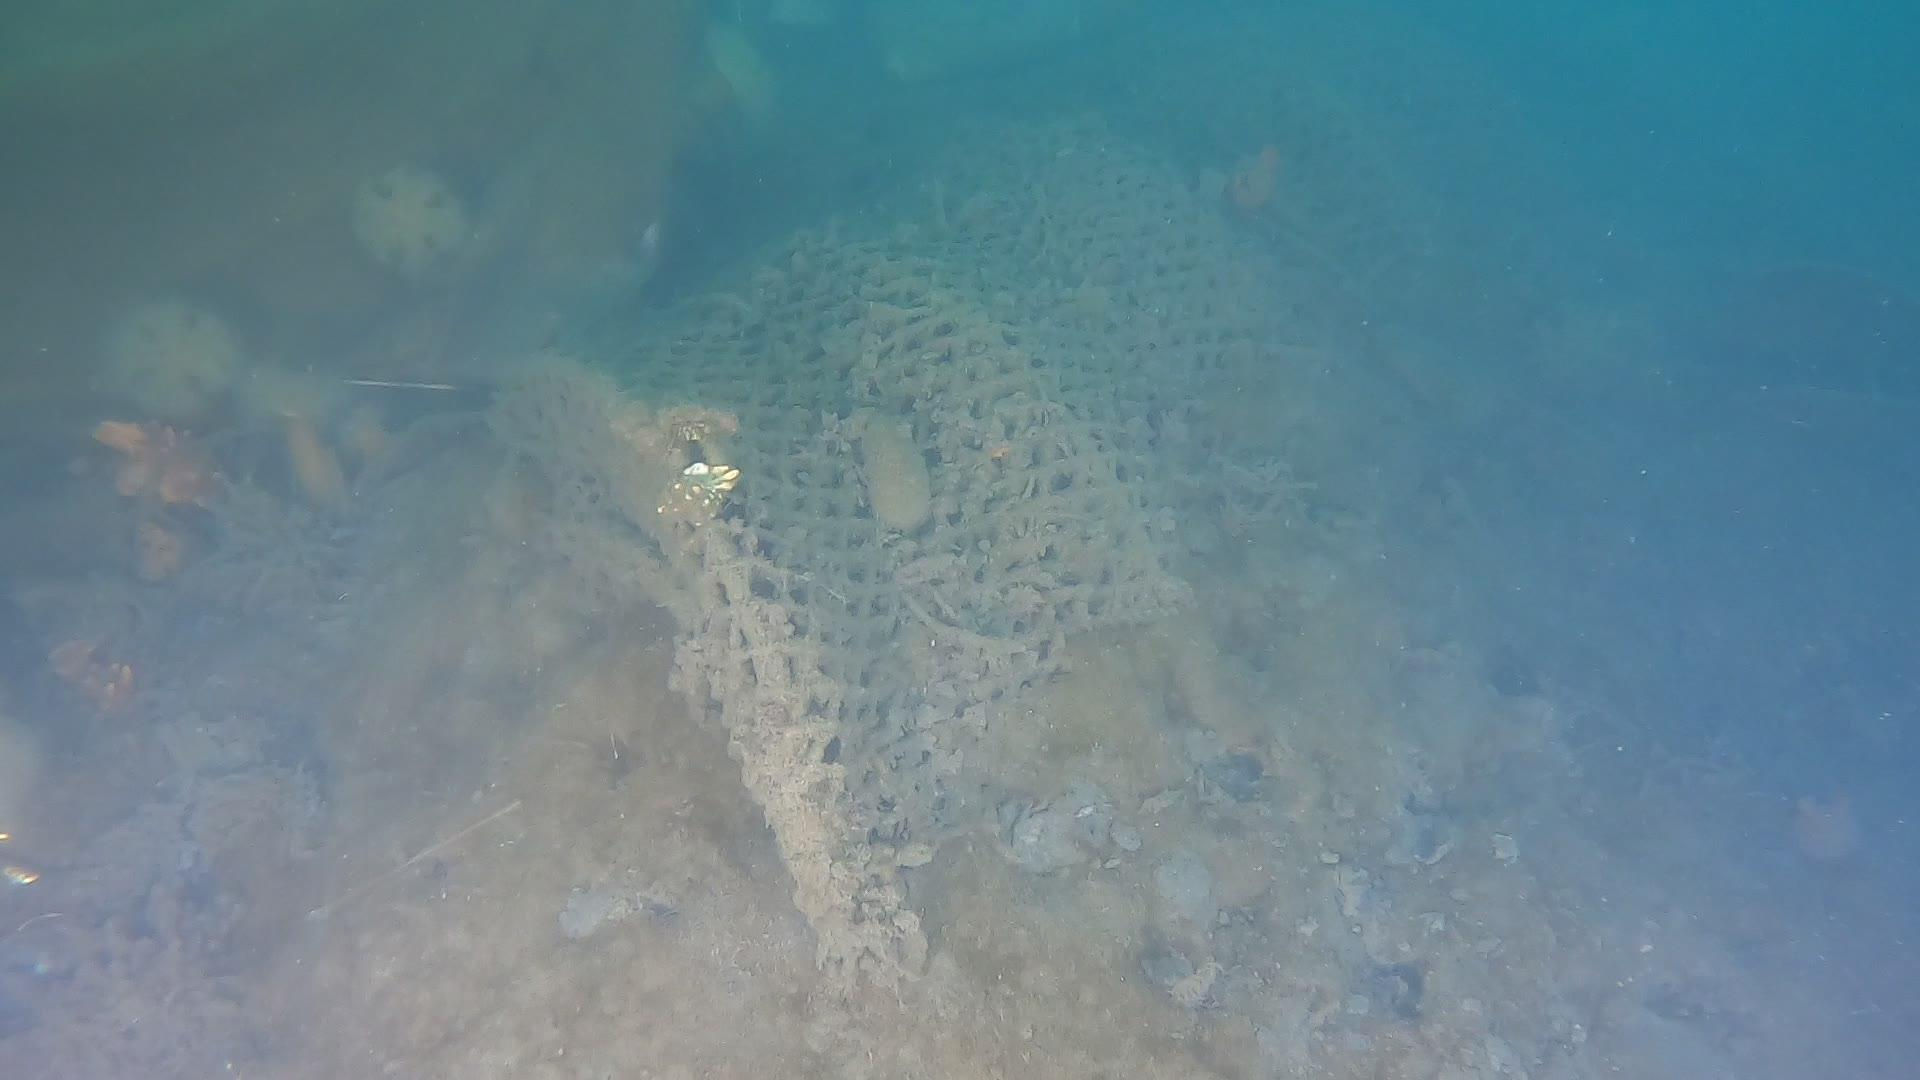spring fish trap: (471, 41, 1429, 993)
